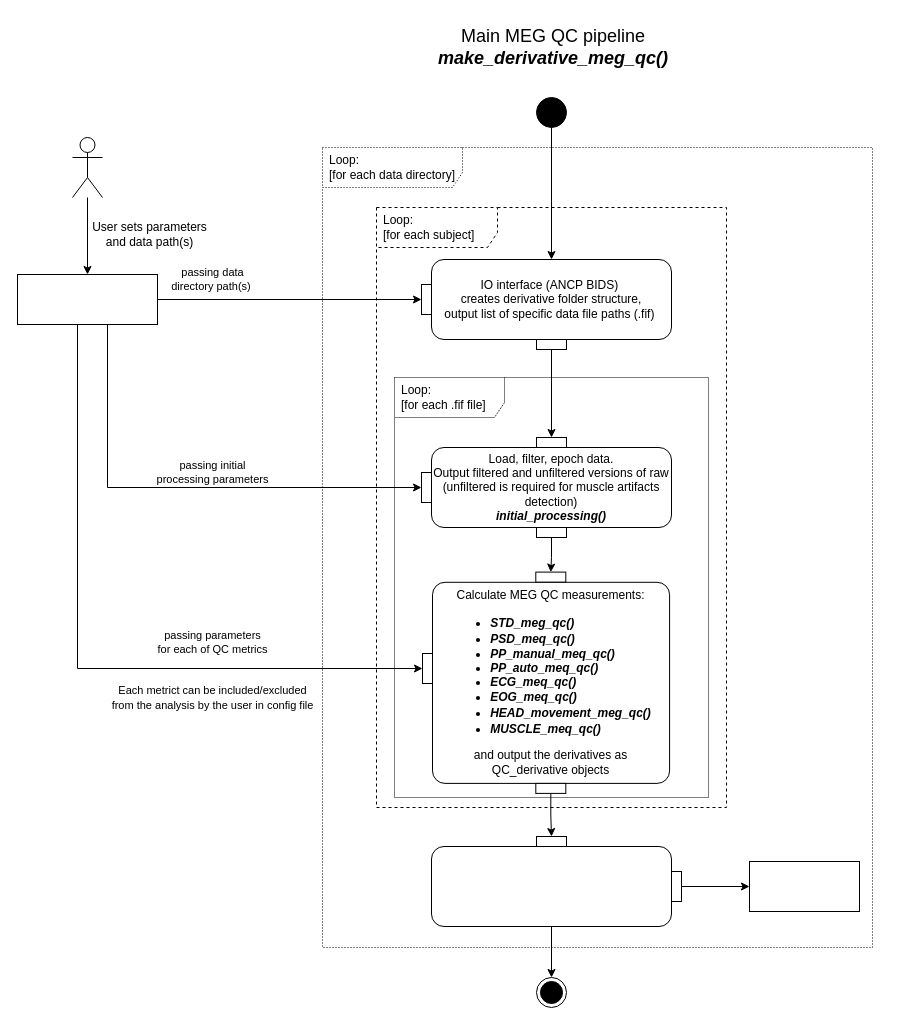
This 900x1025 diagram has some shape labels left out. Each missing label, with the centre of its shape:
"Config file: data directory path(s), QC parameters" belongs at [87,299].
"Derivatives: HTML report, JSON, TSV files" belongs at [804,886].
"IO interface (ANCP BIDS) writes derivatives back into data system" belongs at [551,886].
